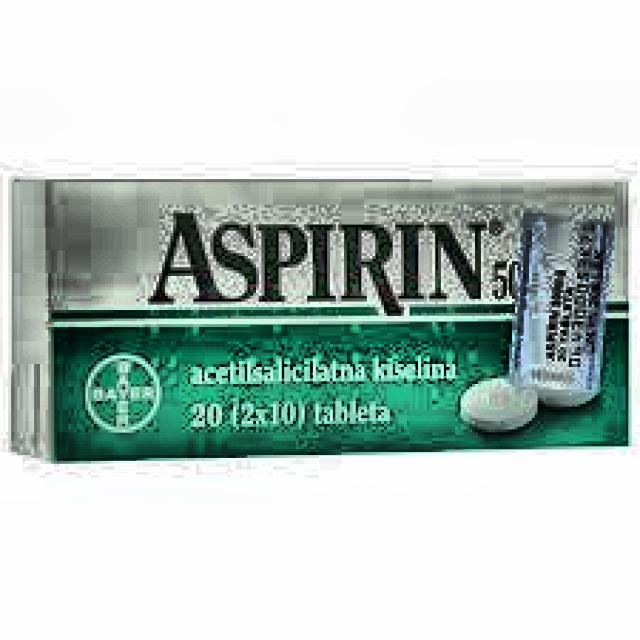Aspirin: (48, 182, 626, 448)
